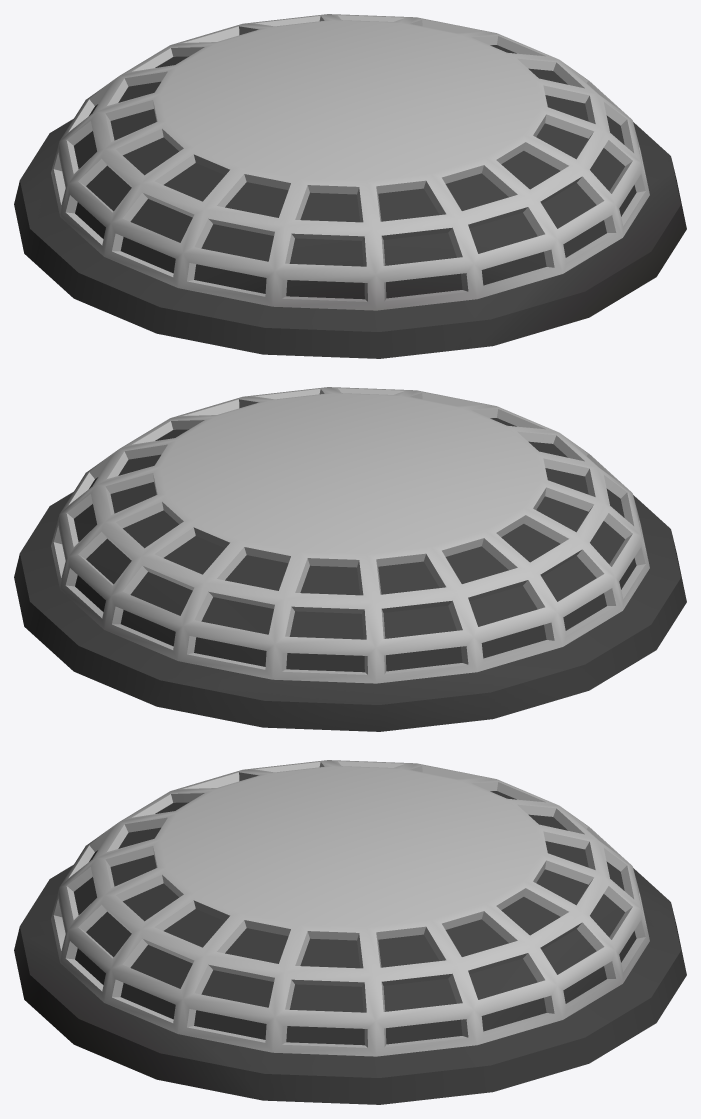
Rendered from Exhaust Fan.fbx.
The picture shows the model from 3 angles, top to bottom: view 1: azimuth 30°, elevation 25°; view 2: azimuth 150°, elevation 25°; view 3: azimuth 270°, elevation 25°; orthographic projection.
Visible parts, largest first — view 1: Exhaust; view 2: Exhaust; view 3: Exhaust.
Part boxes in pixels (x1,y1,x2,y2): Exhaust: [14, 14, 686, 358]; Exhaust: [14, 387, 686, 731]; Exhaust: [14, 760, 686, 1104].
Size of the model in its own units: 387 by 73.54 by 387.
